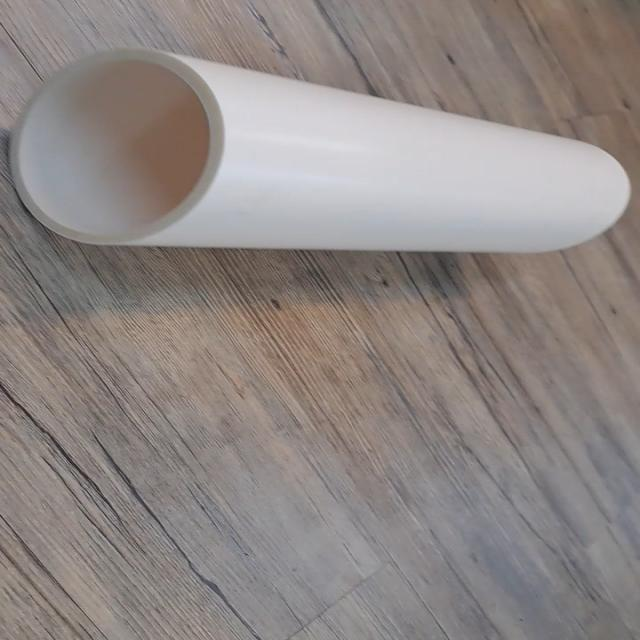CORAL: (12, 46, 632, 274)
